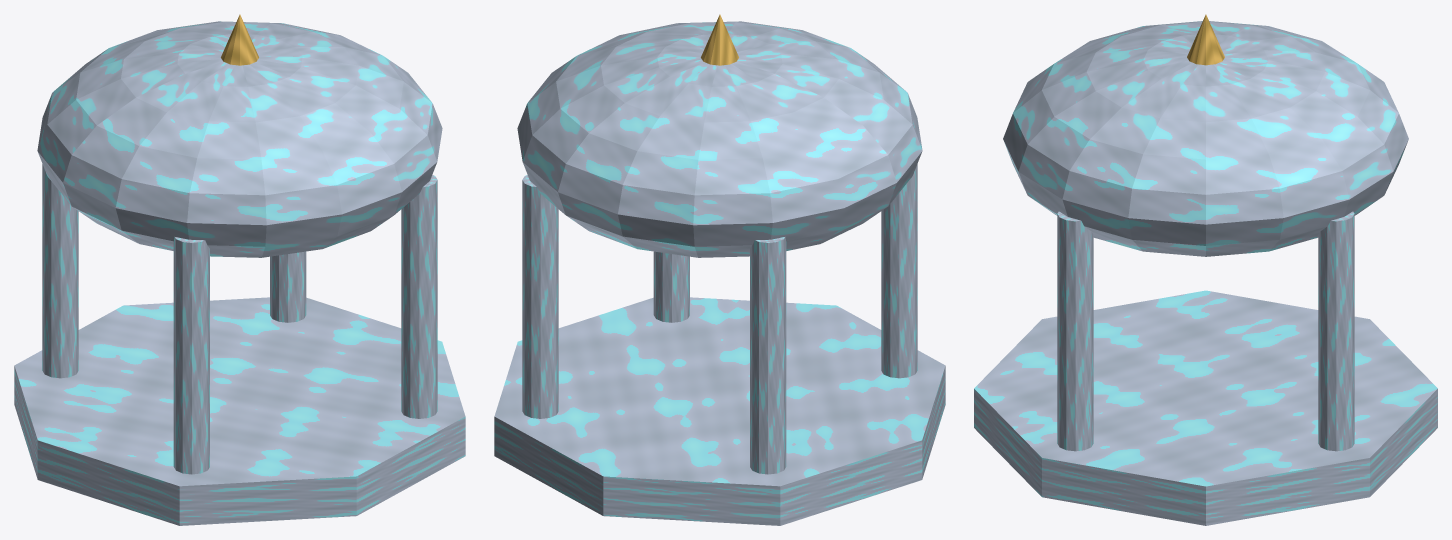
Rendered from sky_temple_pavilion.glb.
The picture shows the model from 3 angles, left to right: view 1: azimuth 30°, elevation 25°; view 2: azimuth 150°, elevation 25°; view 3: azimuth 270°, elevation 25°; orthographic projection.
Visible parts, largest first — view 1: SkyTemplePavilion; view 2: SkyTemplePavilion; view 3: SkyTemplePavilion.
Boxes of the visible parts, x1=… form: SkyTemplePavilion: x1=14, y1=14, x2=465, y2=525; SkyTemplePavilion: x1=494, y1=14, x2=945, y2=525; SkyTemplePavilion: x1=974, y1=14, x2=1437, y2=525.
Bounding box in the file's own units: 6.4 × 6.3 × 6.4.
2 materials, 2 textured.
